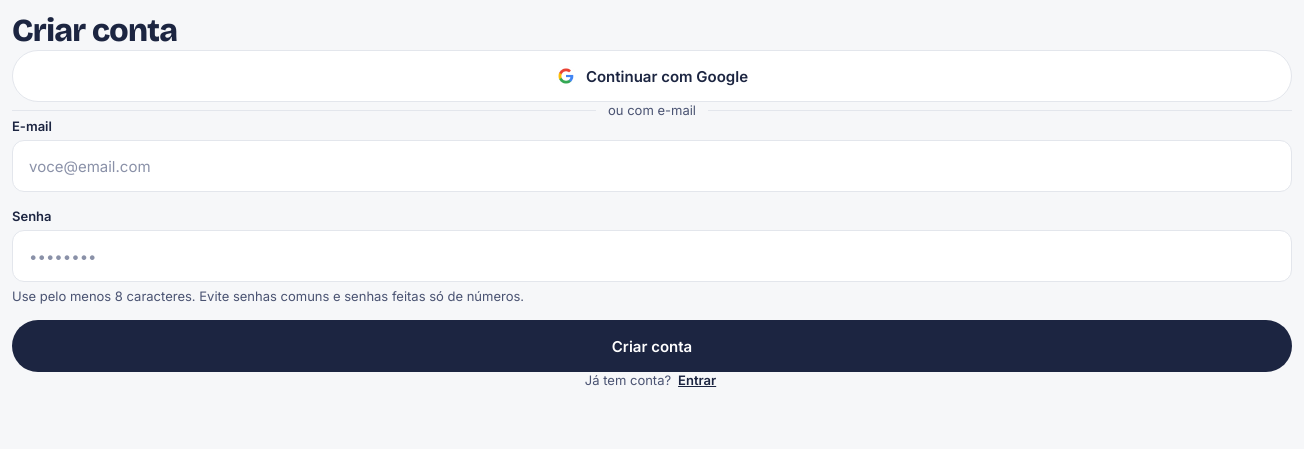
ca02/ca14: API validation is associated with its labelled field and announced
Type "ana@example.com" into the field labelled "E-mail" at (652, 166), box [29, 141, 1275, 191]
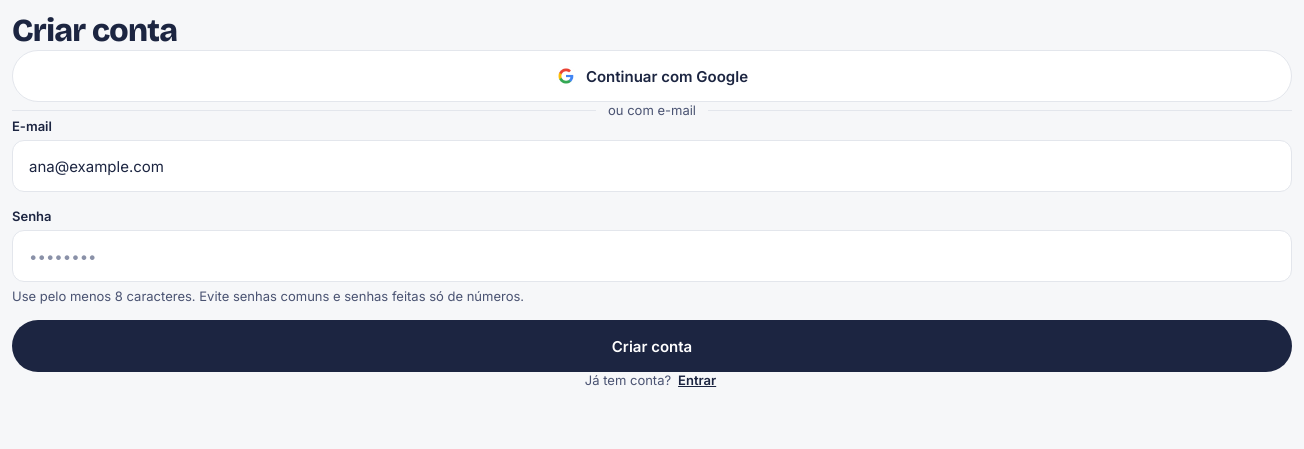
Type "valid-password-test" into the password field labelled "Senha" at (652, 256), box [29, 231, 1275, 281]
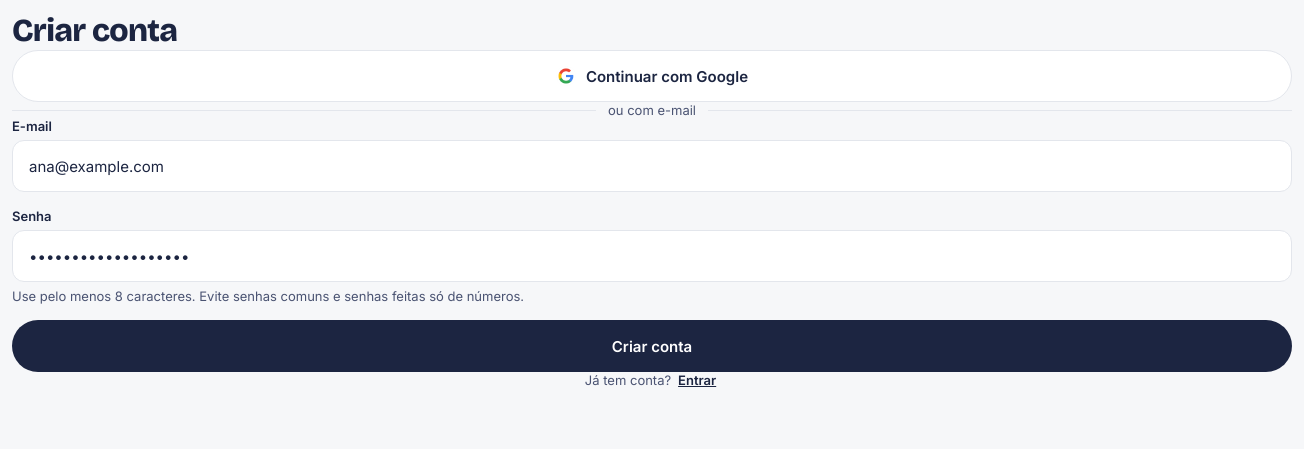
Submit the form named "Criar conta", box [12, 118, 1292, 372]
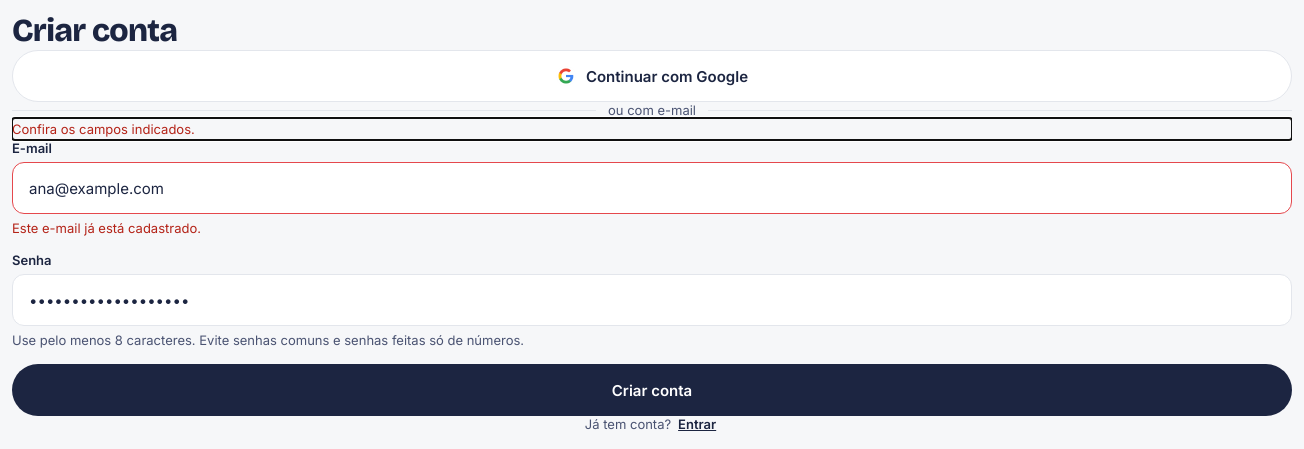
Expected: the link "Entrar" is shown, [678, 416, 716, 432]
Result: the text "Este e-mail já está cadastrado." is shown at [12, 220, 201, 236]
Result: the message reads "Confira os campos indicados." at [12, 121, 195, 137]
